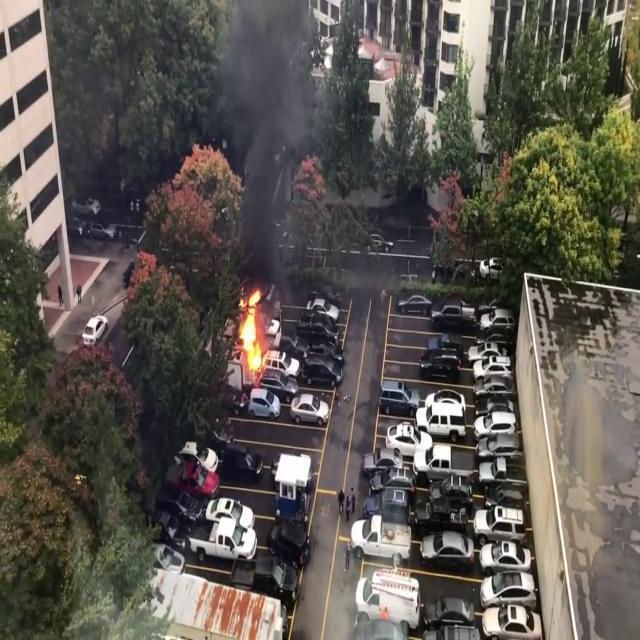Fire: (232, 282, 270, 373)
Smoke: (201, 0, 338, 292)
